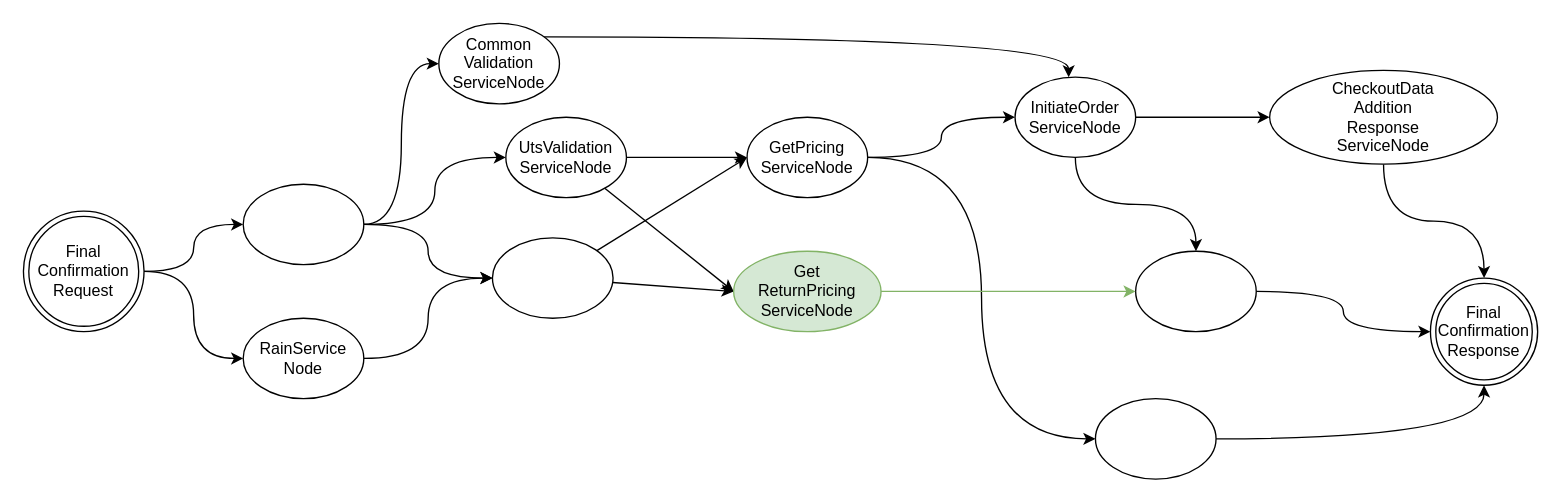
Image size: 1561x503. Some labels were removed from this diagram. The shapes that lost their labels are listed below. From the top down, each one's box as (x1, y1, x2, y2) in pixels, then its label:
(242, 183, 364, 265): GetAddress ServiceNode
(491, 237, 613, 318): BRMSRule Evaluation Node
(1134, 250, 1256, 332): TaskCreation ServiceNode
(1094, 397, 1216, 479): Eta ServiceNode
